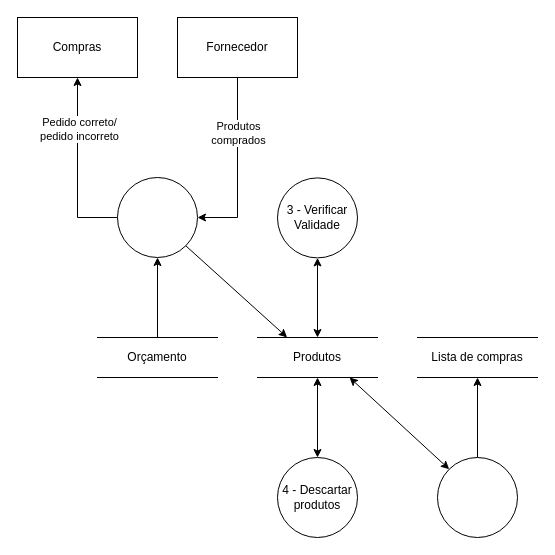
Some shapes in this 555 by 555 pixel diagram are drawn without their labels. The shapes that lost their labels are listed below. From the top down, each one's box as (x1, y1, x2, y2) in pixels, then its label:
(116, 176, 198, 258): 1 - Checar pedido
(436, 456, 518, 538): 2 - Realizar Contagem
